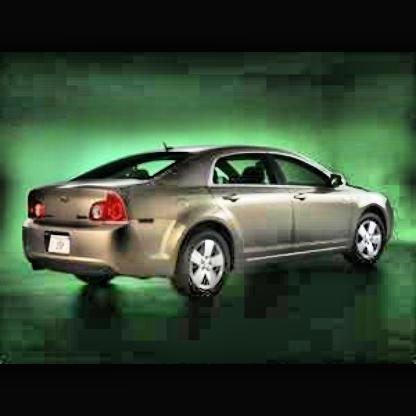Chevrolet Malibu Hybrid Sedan 2010: (20, 141, 398, 304)
